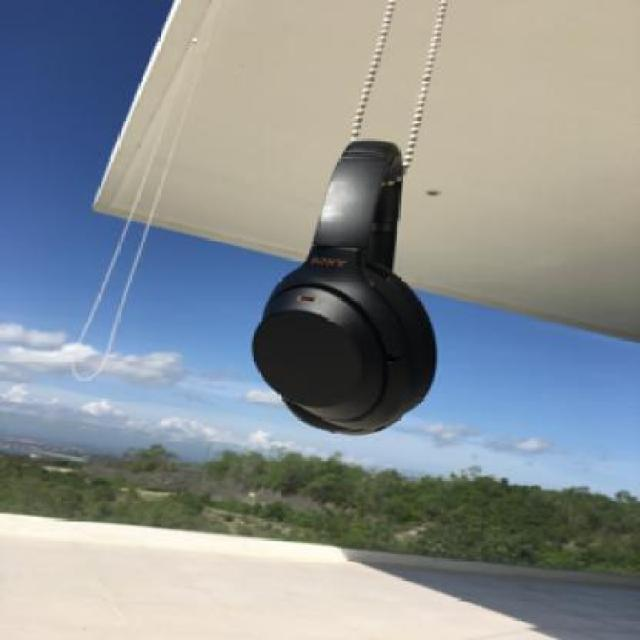earphone: (160, 123, 498, 490)
